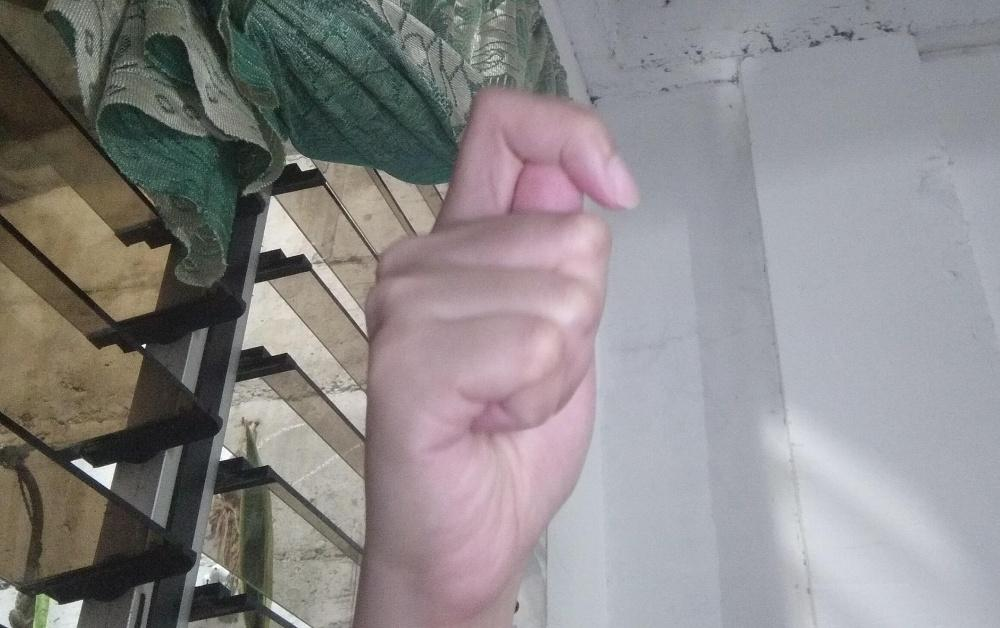t: (362, 84, 642, 608)
